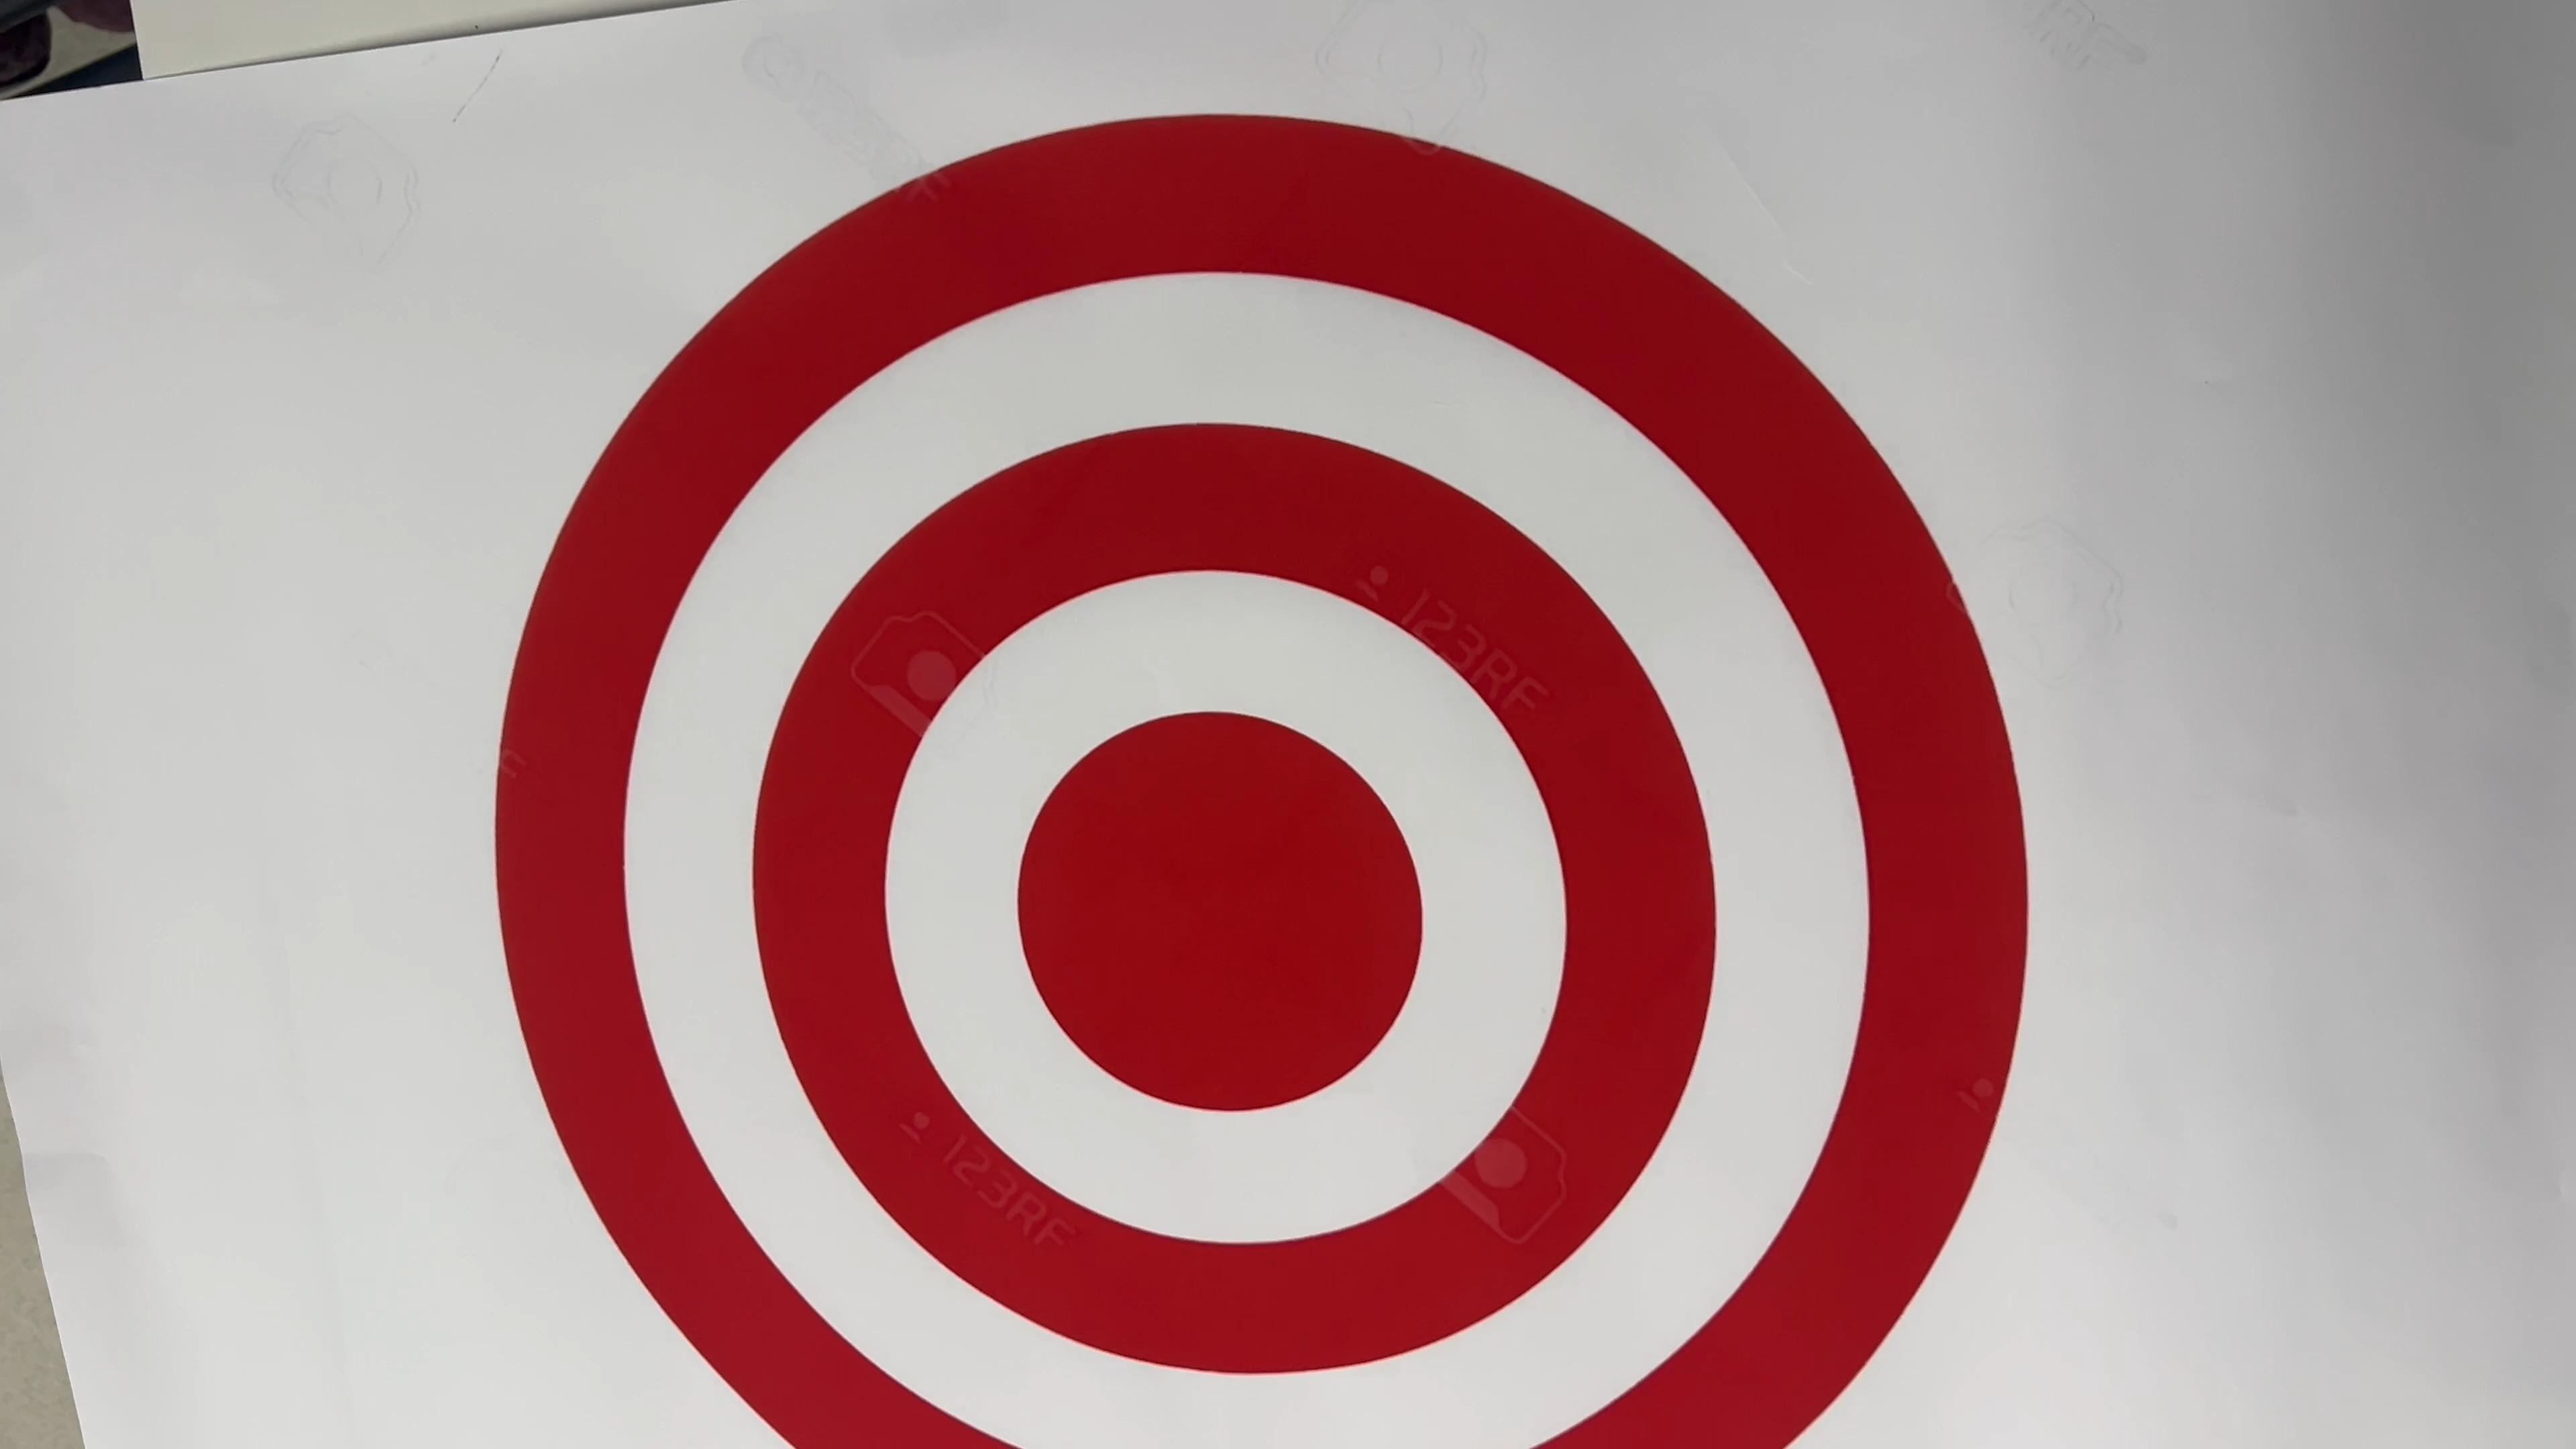target_red: (451, 81, 2063, 1449)
